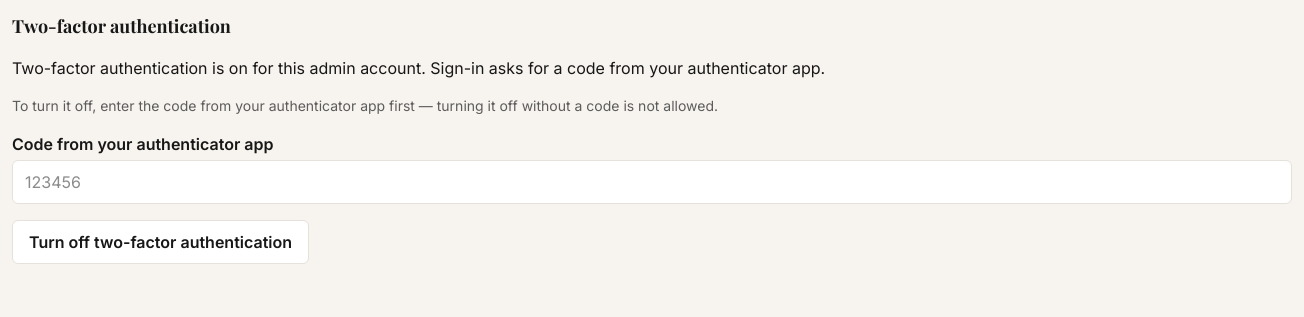
MfaEnrollment unenroll › does NOT unenroll and shows an error on a wrong code
Expected: the text "Two-factor authentication is on for this admin account. Sign-in asks for a code from your authenticator app." is shown, [12,58,825,78]
Type "000000" into the field labelled "Code from your authenticator app" at (652, 182), box [12,160,1292,204]
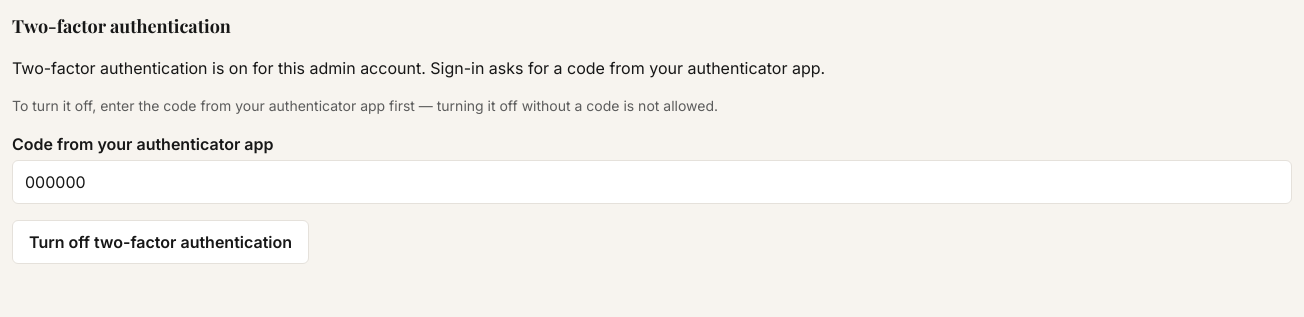
Click the button "Turn off two-factor authentication" at (160, 242), box [12,220,309,264]
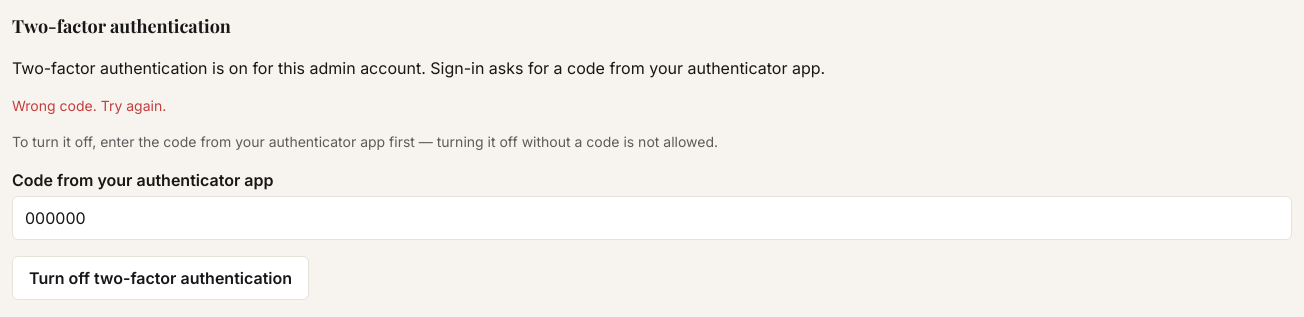
Now the text "Wrong code. Try again." is shown, box [12,97,166,114]
